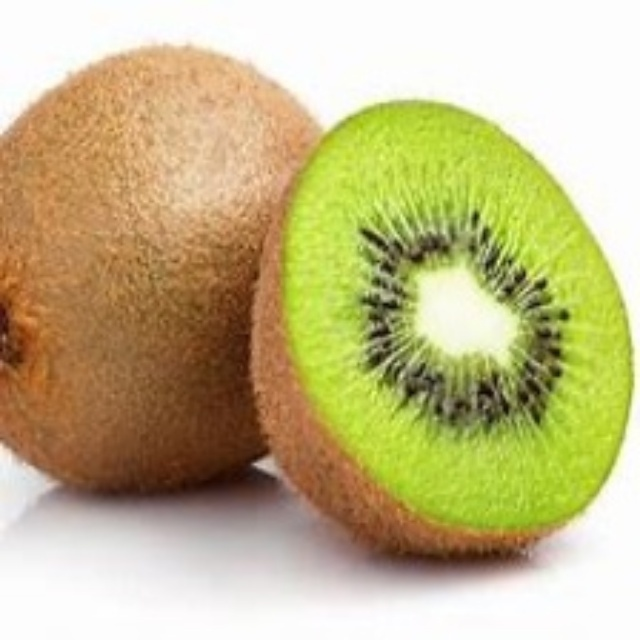kiwi: (254, 92, 630, 570), (1, 44, 325, 513)
